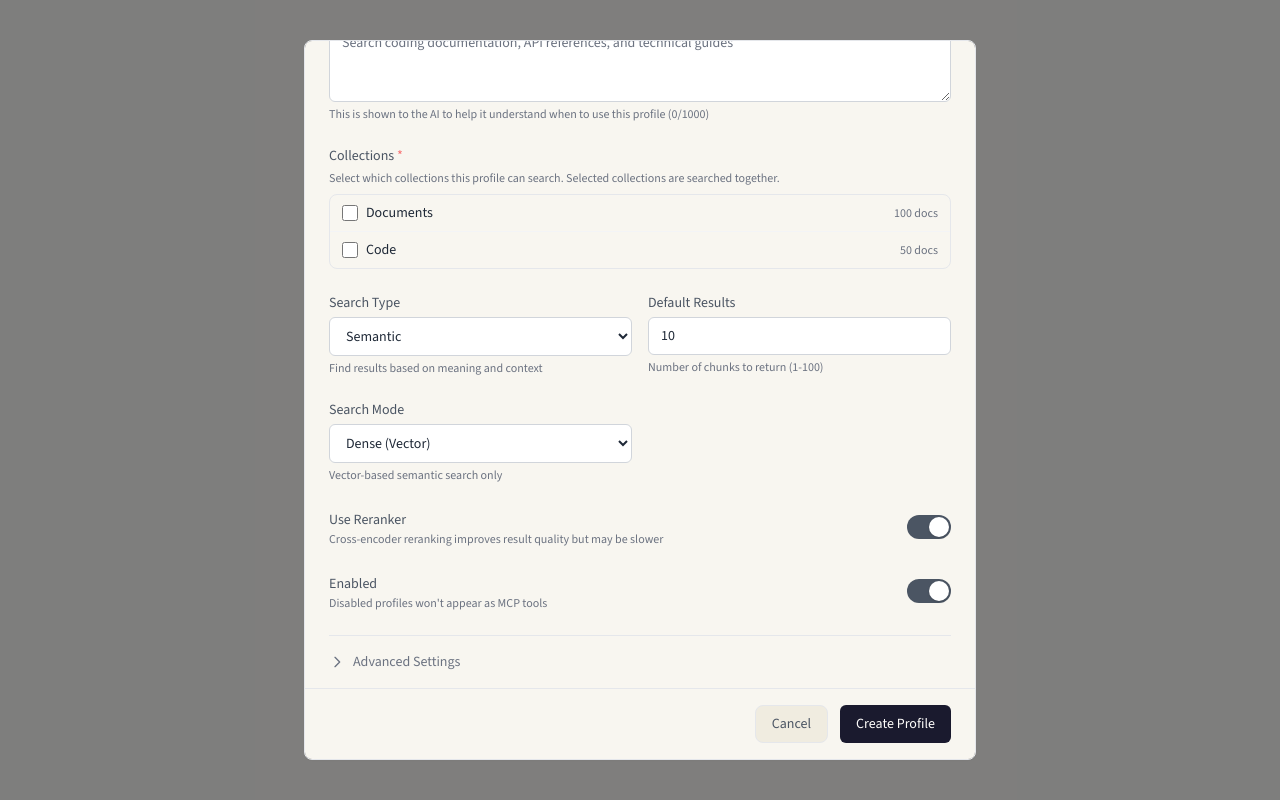
ProfileFormModal › Advanced Settings › should expand advanced settings on click
(page scrolled)
Check: the field labelled "Score Threshold" is not shown
Step 1. Click the button "Advanced Settings" → (395,662), box [329, 652, 460, 672]
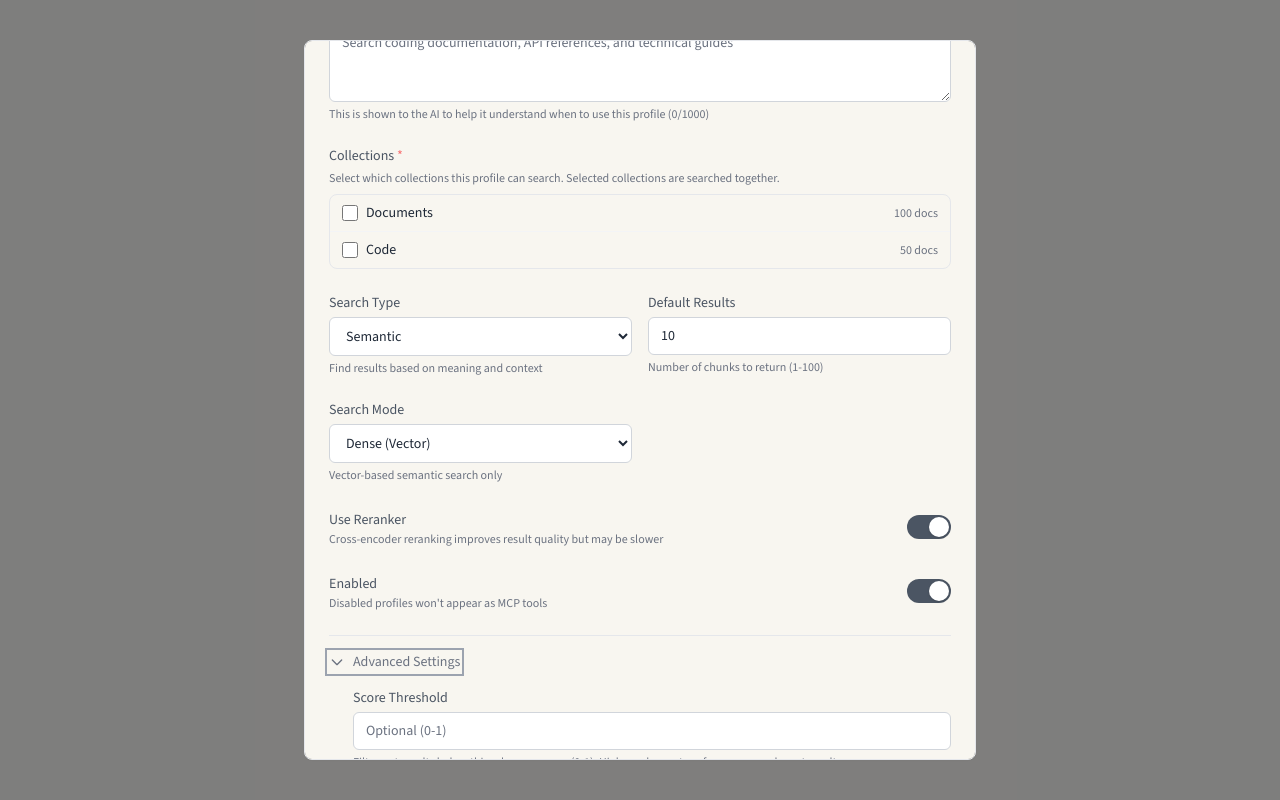
Check: the number field labelled "Score Threshold" is shown, box [353, 712, 951, 750]
